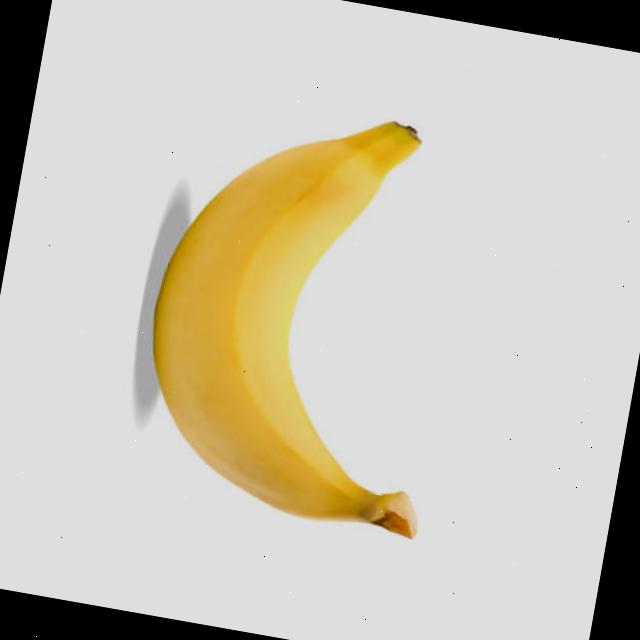Ripe: (122, 82, 484, 544)
